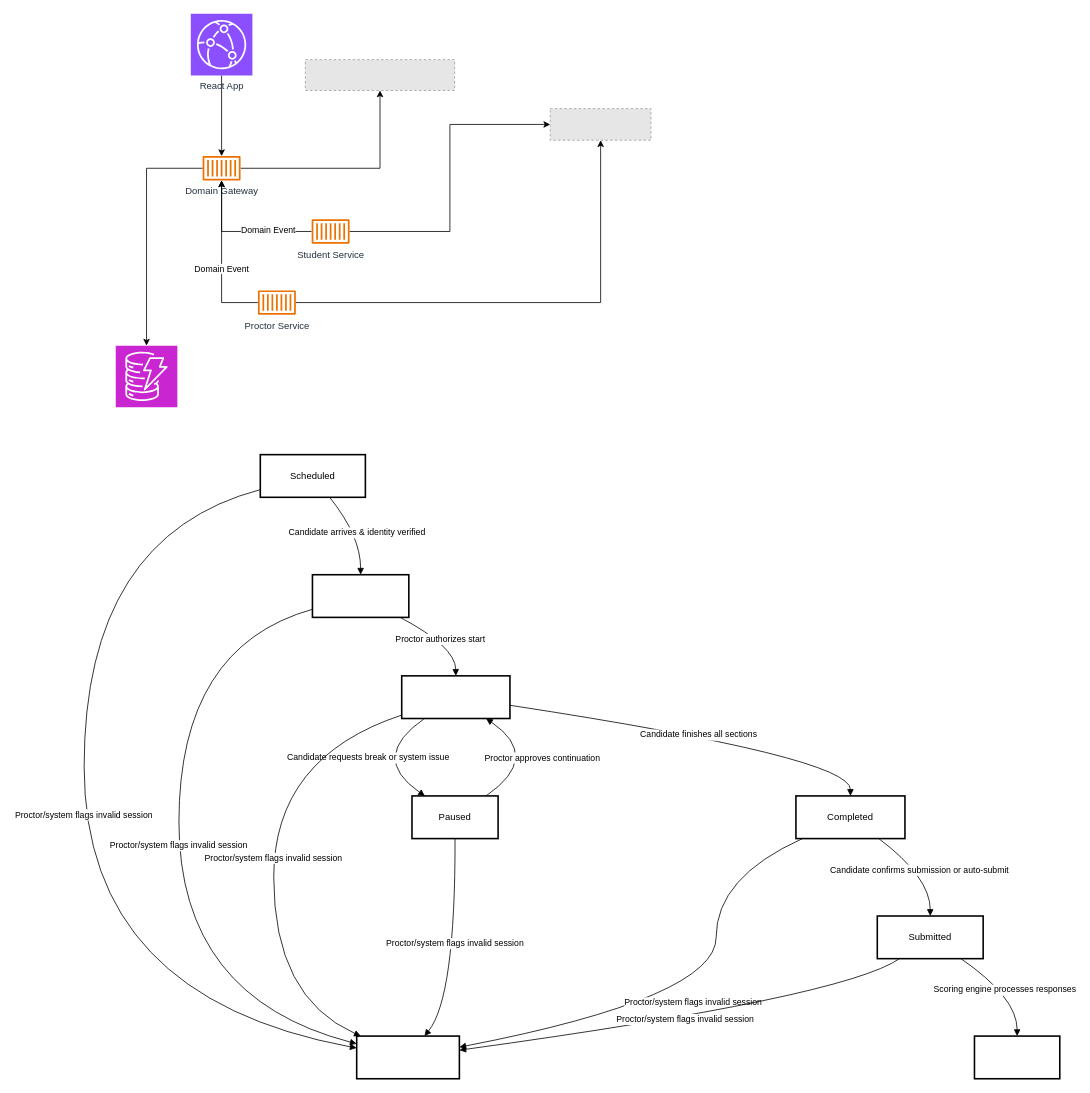
The diagram is 1090 pixels wide and 1093 high, and some of its shapes have lost their labels. Grey dashed boxes stand in for pictures. The centre of each missing label's shape, as x and y in pixels:
Cancelled: point 408,1057
Check-In: point 360,596
In Progress: point 455,697
Scored: point 1016,1057
